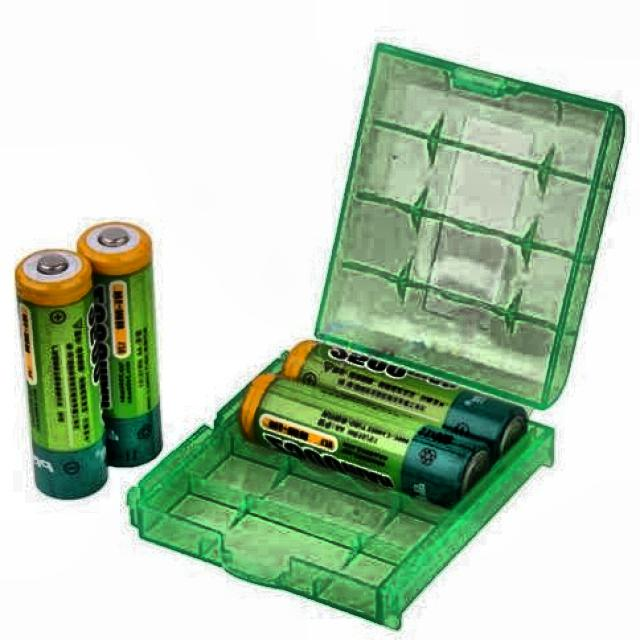Non-Valuable Waste - Batteries: (240, 374, 489, 506), (283, 341, 528, 457), (15, 249, 108, 499), (77, 222, 162, 466)
